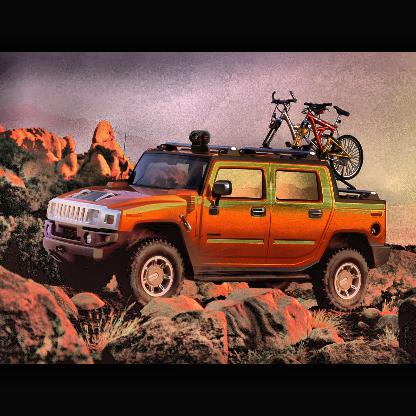HUMMER H2 SUT Crew Cab 2009: (45, 131, 388, 310)
